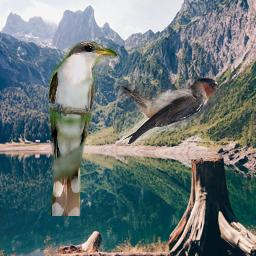Cuckoo: (47, 40, 118, 216)
Swallow: (119, 77, 224, 145)
